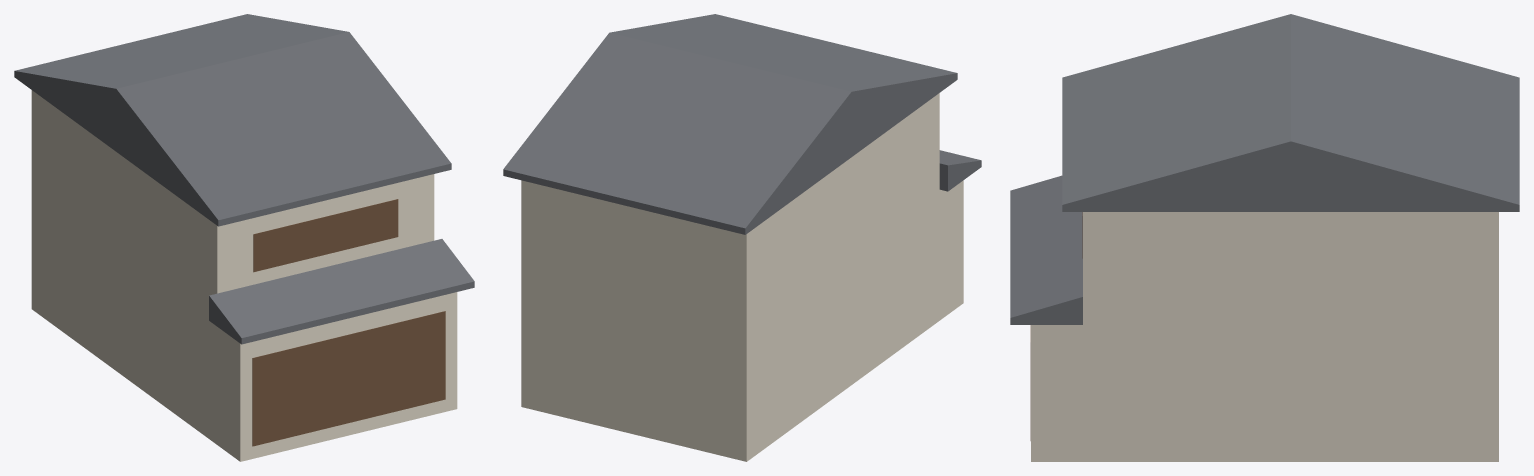
The model's file is kyoto_machiya.glb.
3 views of the same model, side by side, from view 1: azimuth 30°, elevation 25°; view 2: azimuth 150°, elevation 25°; view 3: azimuth 270°, elevation 25° (orthographic). The views are drawn at different scales.
Visible parts, largest first — view 1: roof, ground_floor, upper_floor, koshi, hisashi, mushiko_mado; view 2: roof, ground_floor, upper_floor, hisashi; view 3: roof, ground_floor, upper_floor, hisashi.
Boxes of the visible parts, bbox=[...] form: roof: bbox=[14, 14, 451, 226]; ground_floor: bbox=[31, 183, 457, 461]; upper_floor: bbox=[31, 90, 434, 312]; koshi: bbox=[252, 311, 445, 446]; hisashi: bbox=[209, 239, 474, 344]; mushiko_mado: bbox=[253, 199, 398, 272]; roof: bbox=[503, 14, 957, 234]; ground_floor: bbox=[521, 180, 963, 461]; upper_floor: bbox=[521, 93, 939, 330]; hisashi: bbox=[939, 150, 981, 191]; roof: bbox=[1062, 14, 1519, 211]; ground_floor: bbox=[1031, 320, 1498, 461]; upper_floor: bbox=[1083, 212, 1498, 320]; hisashi: bbox=[1010, 175, 1082, 324].
Bounding box in the file's own units: 5.8 × 6.9 × 9.8.
